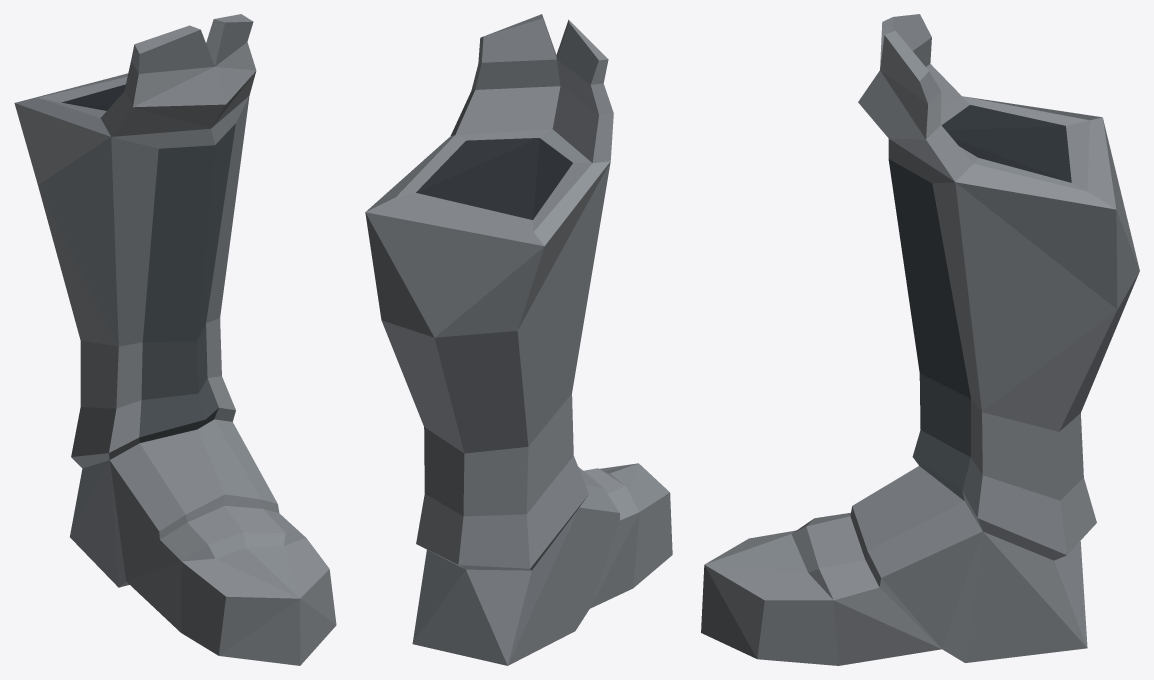
Rendered from Chr_LegRight_Male_14_Static.fbx.
3 renders of one model, left to right at view 1: azimuth 30°, elevation 25°; view 2: azimuth 150°, elevation 25°; view 3: azimuth 270°, elevation 25°, orthographic. The views are drawn at different scales.
Parts seen in each view (by area): view 1: Chr_LegRight_Male_14_Static; view 2: Chr_LegRight_Male_14_Static; view 3: Chr_LegRight_Male_14_Static.
Boxes of the visible parts, left/top/right/bottom form: Chr_LegRight_Male_14_Static: left=14, top=14, right=336, bottom=665; Chr_LegRight_Male_14_Static: left=365, top=14, right=672, bottom=665; Chr_LegRight_Male_14_Static: left=701, top=14, right=1139, bottom=665.
Size of the model in its own units: 0.1561 by 0.4979 by 0.3265.
